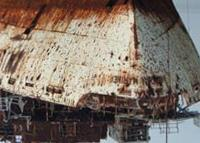rust: (1, 1, 183, 31), (98, 72, 161, 88), (129, 22, 143, 58)
